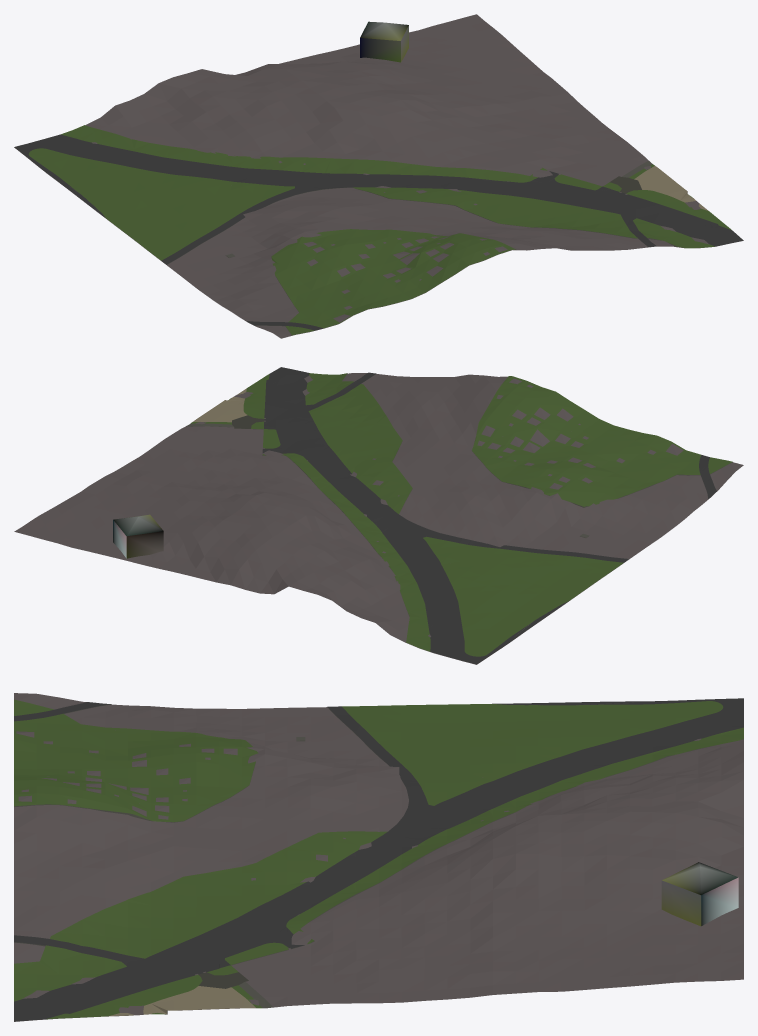
The picture shows the model from 3 angles, top to bottom: view 1: azimuth 30°, elevation 25°; view 2: azimuth 150°, elevation 25°; view 3: azimuth 270°, elevation 25°; orthographic projection. The views are drawn at different scales.
Visible parts, largest first — view 1: c_m10_m15; view 2: c_m10_m15; view 3: c_m10_m15.
Part boxes in pixels (left/top/right/bottom): c_m10_m15: left=14, top=14, right=743, bottom=338; c_m10_m15: left=14, top=367, right=743, bottom=664; c_m10_m15: left=14, top=693, right=743, bottom=1021.
Size of the model in its own units: 128 by 16.08 by 128.
